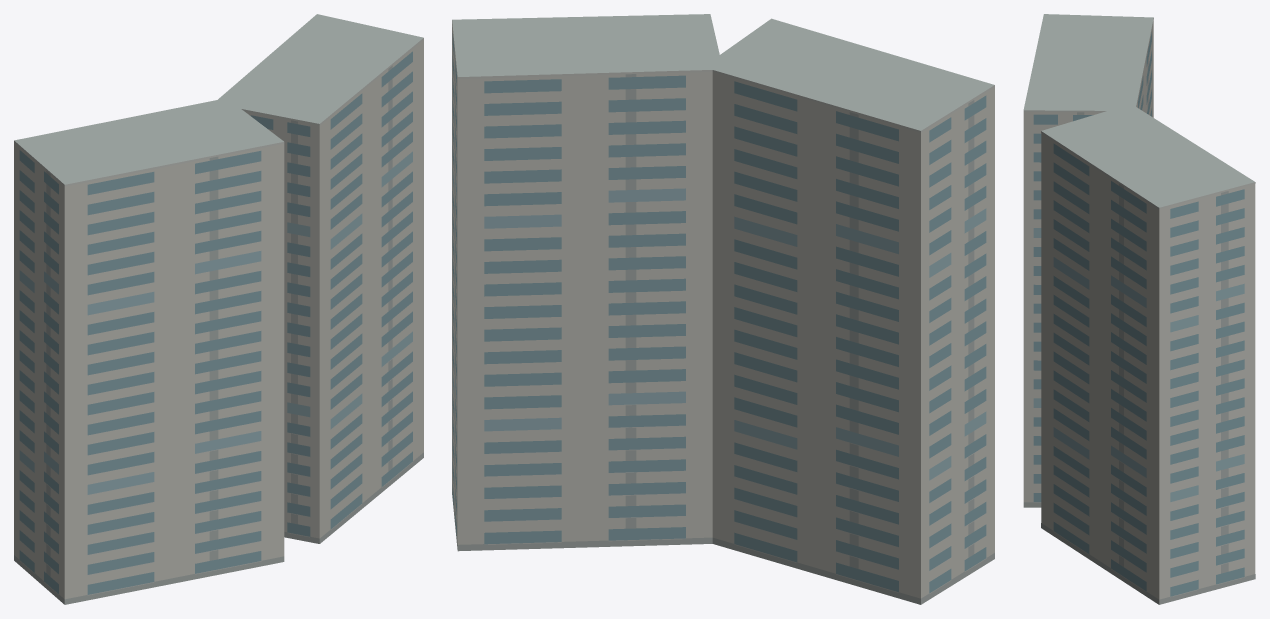
File: residential-2c737e86-17b7-4c34-885c-5ac66cd89dad.glb
The picture shows the model from 3 angles, left to right: view 1: azimuth 30°, elevation 25°; view 2: azimuth 150°, elevation 25°; view 3: azimuth 270°, elevation 25°; orthographic projection. The views are drawn at different scales.
Visible parts, largest first — view 1: residential-2c737e86-17b7-4c34-885c-5ac66cd89dad.tmp; view 2: residential-2c737e86-17b7-4c34-885c-5ac66cd89dad.tmp; view 3: residential-2c737e86-17b7-4c34-885c-5ac66cd89dad.tmp.
Boxes of the visible parts, left/top/right/bottom form: residential-2c737e86-17b7-4c34-885c-5ac66cd89dad.tmp: left=14, top=14, right=423, bottom=604; residential-2c737e86-17b7-4c34-885c-5ac66cd89dad.tmp: left=452, top=14, right=994, bottom=604; residential-2c737e86-17b7-4c34-885c-5ac66cd89dad.tmp: left=1023, top=14, right=1255, bottom=604.
Bounding box in the file's own units: 60.71 × 58 × 30.71.
